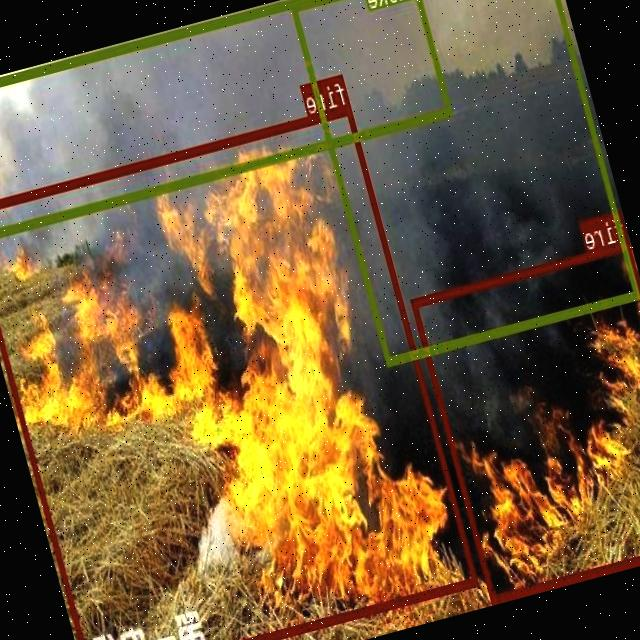fire: (0, 103, 479, 640), (411, 239, 640, 601)
smoke: (291, 0, 640, 364), (0, 0, 453, 240)
